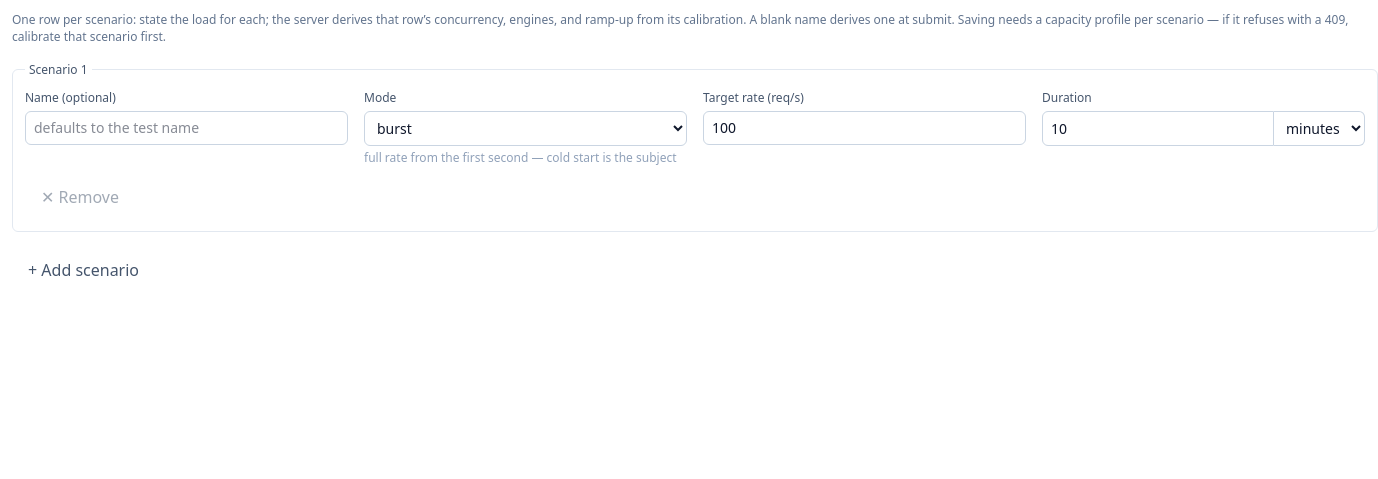
ModeRowsForm (phase 91) › adds and removes rows; the last row cannot be removed
Click the button with test id "mode-add-row" at (84, 270), box x1=12 y1=248 x2=155 y2=292
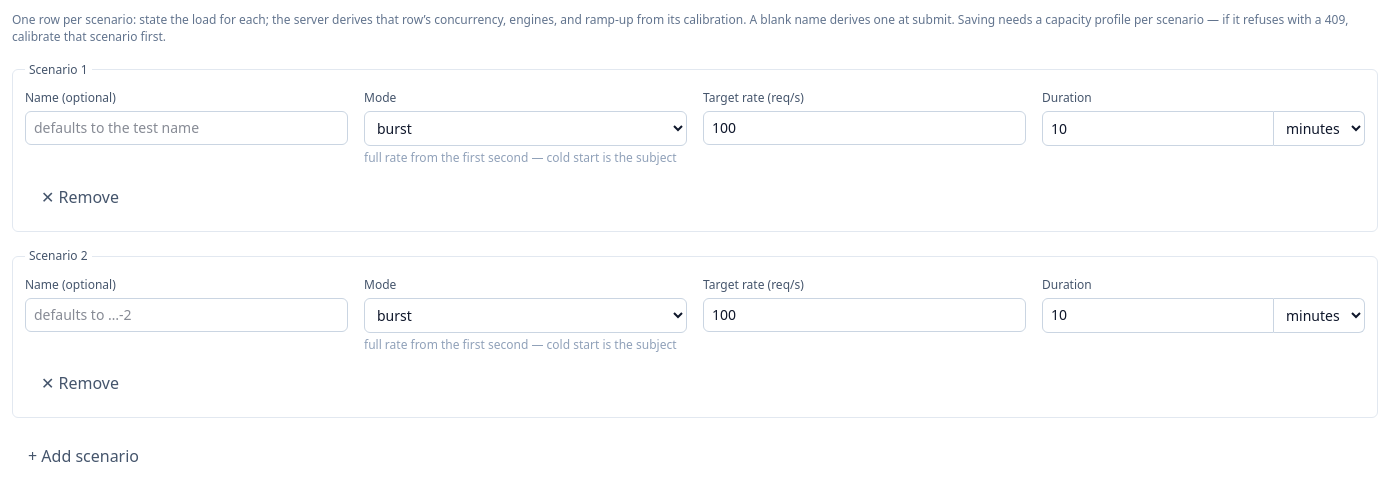
Click the button with aria-label "remove scenario 1" at (80, 197), box x1=25 y1=175 x2=135 y2=219
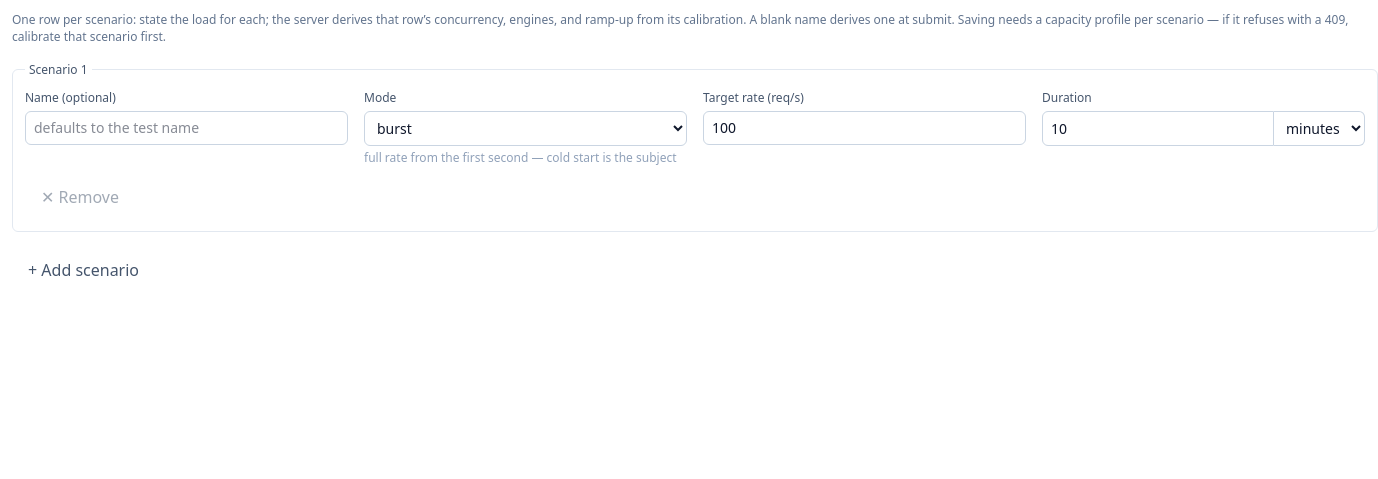
Expected: the button with aria-label "remove scenario 1" is disabled, x1=25 y1=175 x2=135 y2=219
